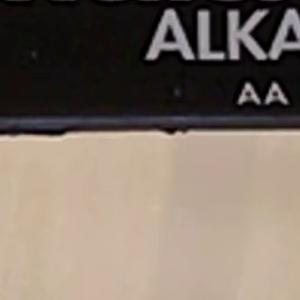keyword: (137, 1, 263, 69)
